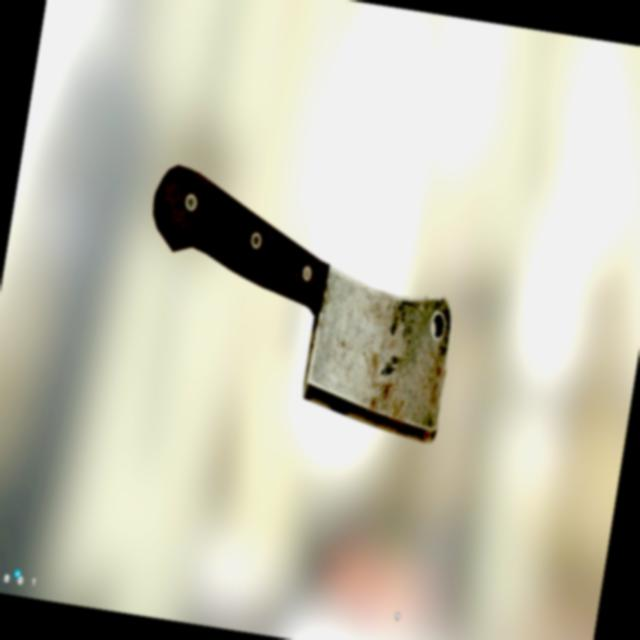cleaver: (121, 156, 480, 456)
